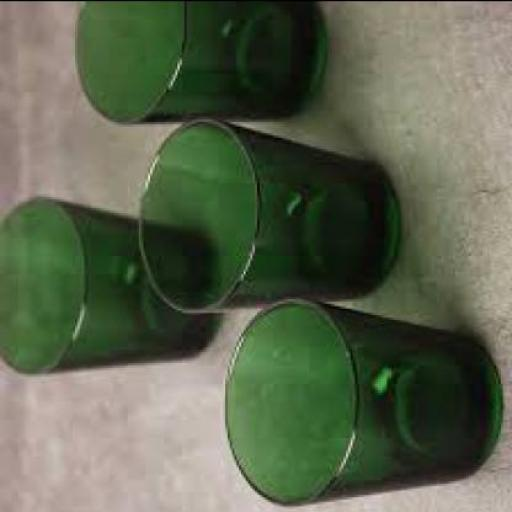glass: (223, 291, 503, 505), (136, 114, 398, 309), (0, 193, 214, 373), (73, 1, 326, 123)
